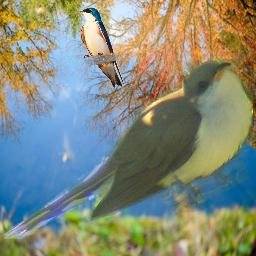Cuckoo: (0, 59, 253, 239)
Swallow: (79, 7, 124, 88)
